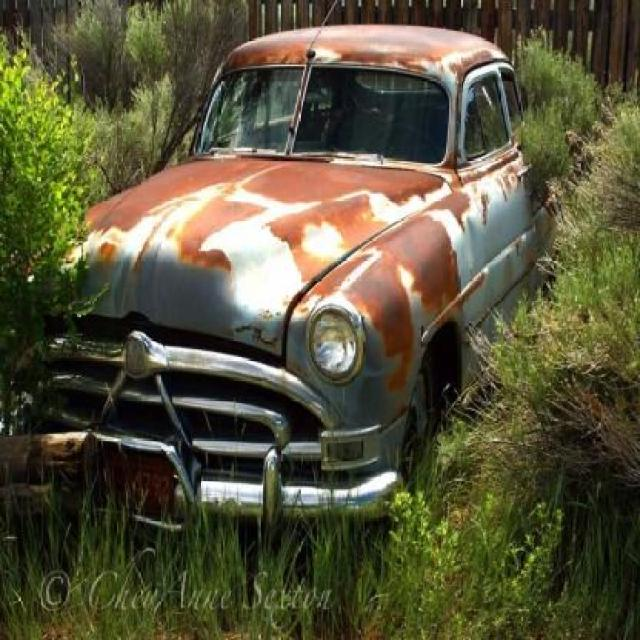corrosion: (33, 31, 556, 538)
